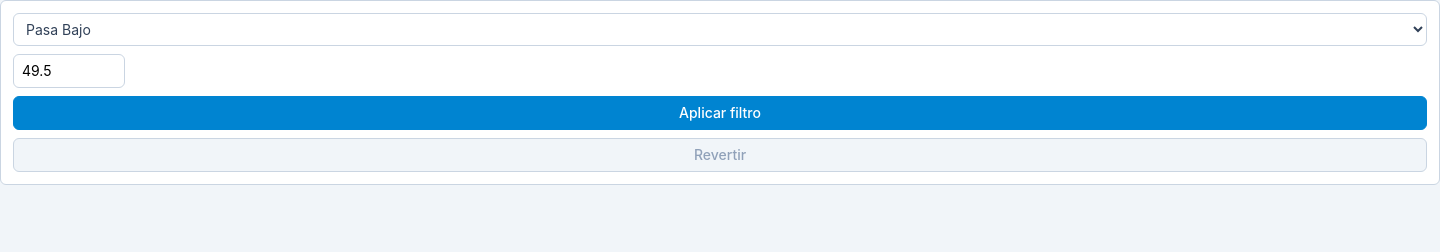
Test: FilterPanel › cuando applyFilter del store devuelve error, se muestra el mensaje en role="alert" sin desmontar el resto del panel
Select "Pasa Bajo" in the dropdown named "Tipo de filtro" at x=720, y=30, box [13,13,1427,46]
Click the button labelled "Aplicar filtro" at x=720, y=113, box [13,96,1427,130]
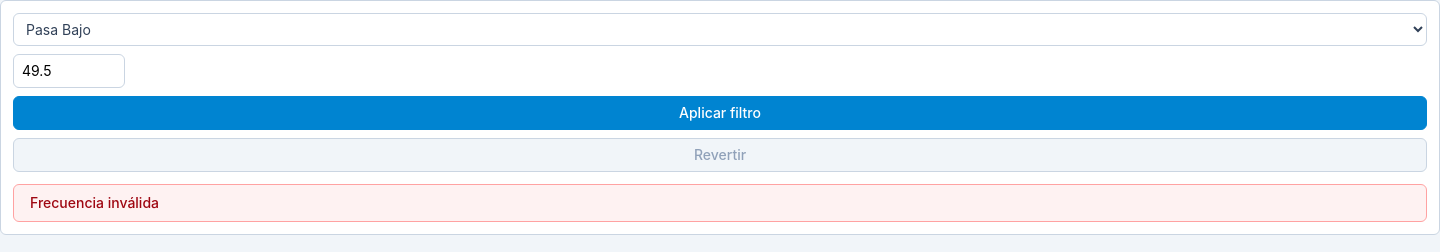
Result: the message reads "Frecuencia inválida" at [30,194,159,211]
